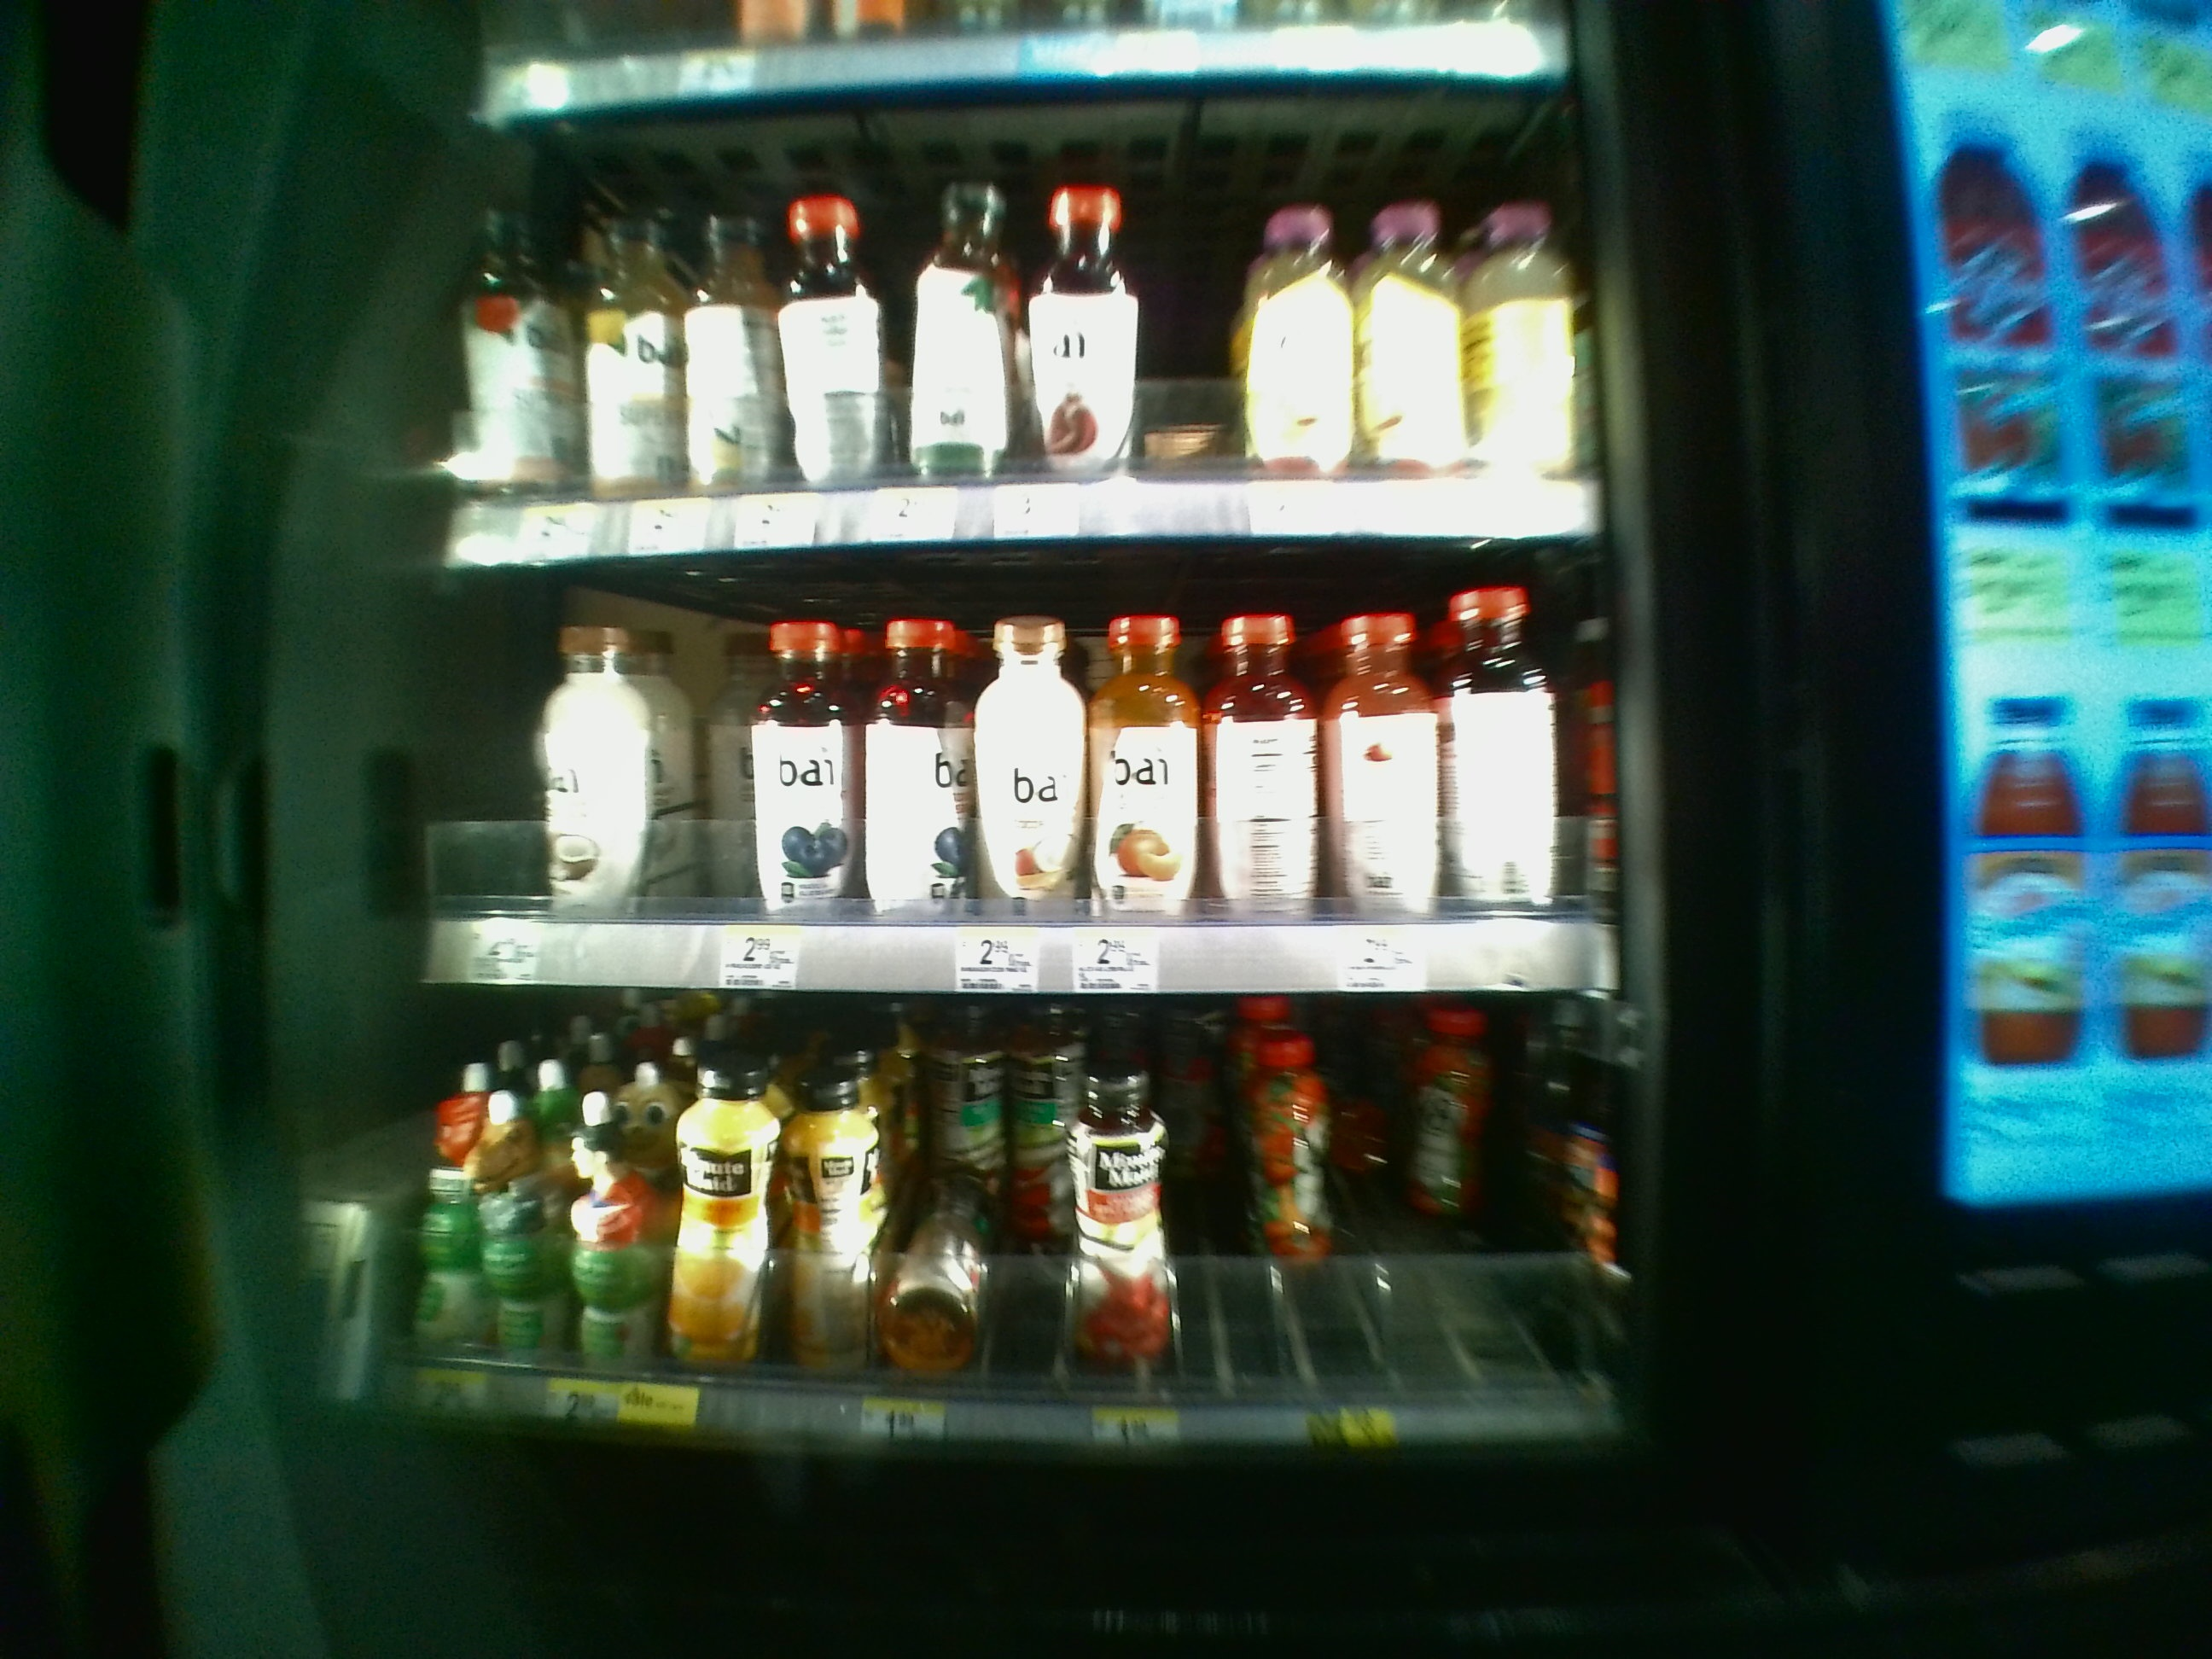shelf: (415, 1000, 1635, 1453), (444, 131, 1587, 566), (427, 580, 1611, 988)
